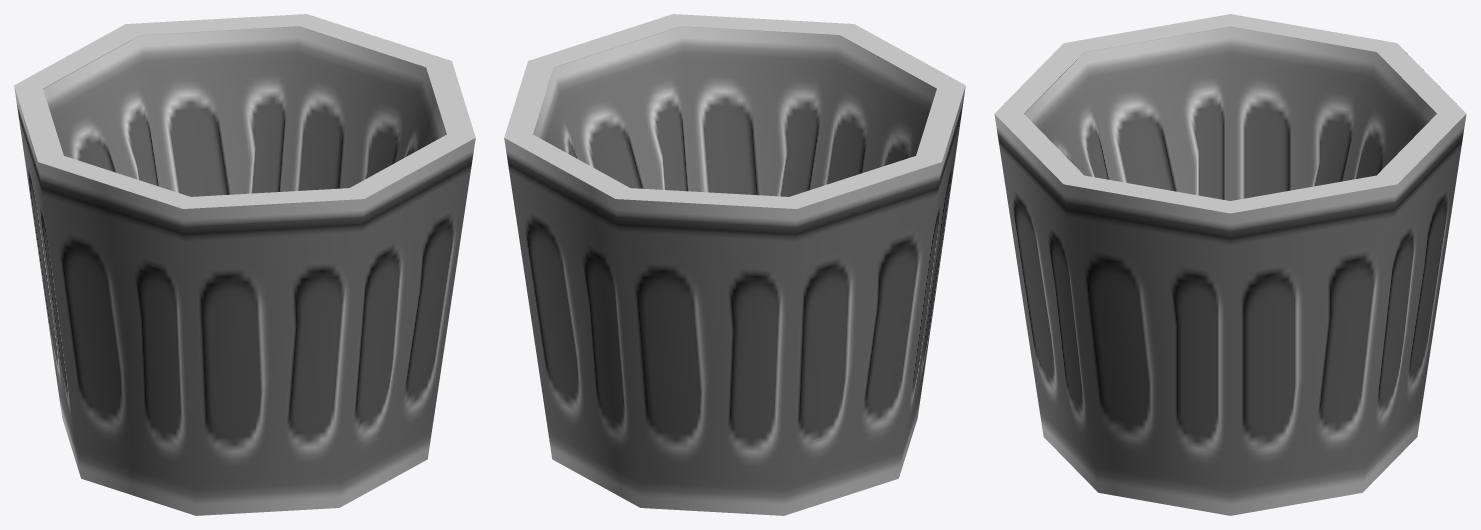
File: trash.dae
3 renders of one model, left to right at view 1: azimuth 30°, elevation 25°; view 2: azimuth 150°, elevation 25°; view 3: azimuth 270°, elevation 25°, orthographic.
Parts seen in each view (by area): view 1: Outside, Inside, Top; view 2: Outside, Inside, Top; view 3: Outside, Inside, Top.
Boxes of the visible parts, bbox=[...] form: Outside: bbox=[14, 20, 475, 515]; Inside: bbox=[43, 26, 446, 196]; Top: bbox=[14, 14, 475, 208]; Outside: bbox=[504, 20, 965, 515]; Inside: bbox=[533, 26, 936, 196]; Top: bbox=[504, 14, 965, 208]; Outside: bbox=[994, 26, 1466, 515]; Inside: bbox=[1024, 27, 1436, 200]; Top: bbox=[994, 14, 1466, 213].
Bounding box in the file's own units: 3.84 × 2.9 × 3.84.
5 materials, 2 textured.
